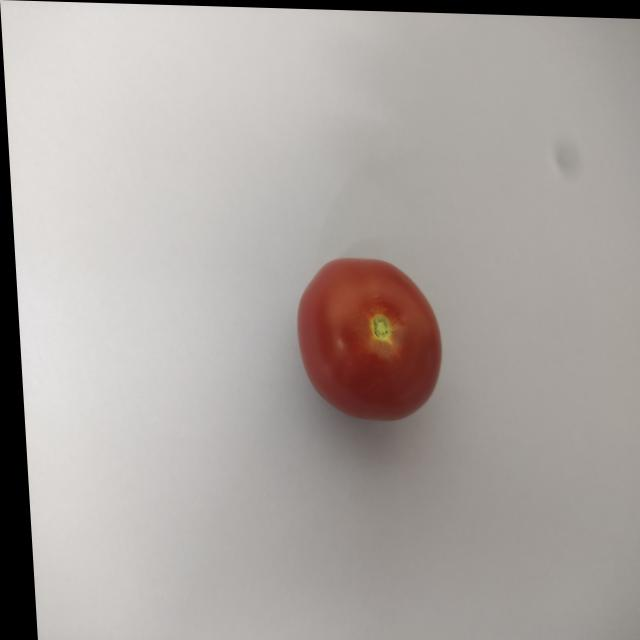kirmizi: (279, 248, 463, 438)
